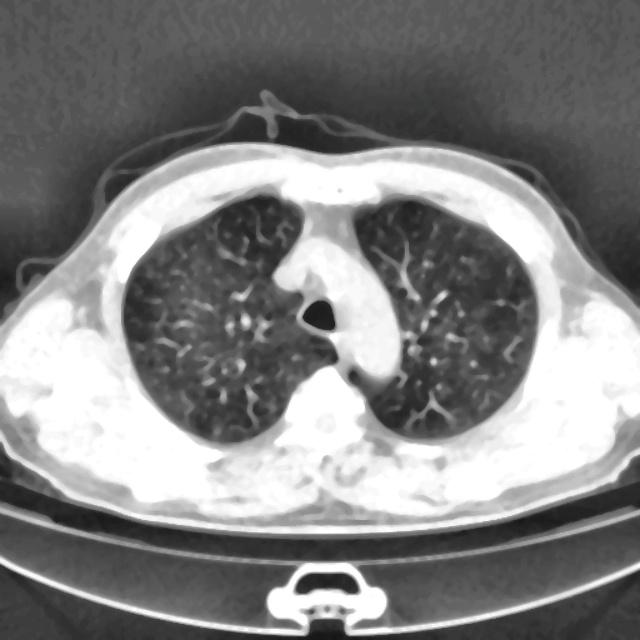covid: (0, 114, 639, 537)
